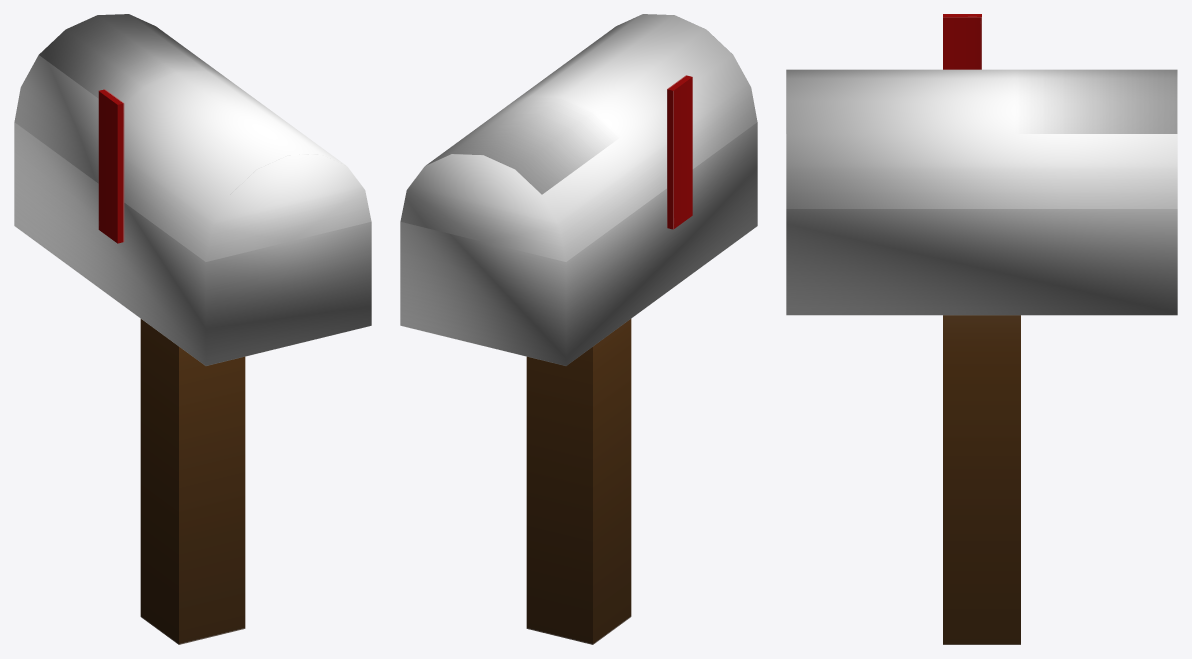
File: mailbox.fbx
3 renders of one model, left to right at view 1: azimuth 30°, elevation 25°; view 2: azimuth 150°, elevation 25°; view 3: azimuth 270°, elevation 25°, orthographic. The views are drawn at different scales.
Visible parts, largest first — view 1: mailbox_body, mailbox_post, mailbox_flag; view 2: mailbox_body, mailbox_post, mailbox_flag; view 3: mailbox_body, mailbox_post, mailbox_flag.
Part boxes in pixels (x1=…): mailbox_body: x1=14, y1=14, x2=371, y2=365; mailbox_post: x1=140, y1=319, x2=245, y2=644; mailbox_flag: x1=98, y1=89, x2=124, y2=243; mailbox_body: x1=400, y1=14, x2=757, y2=365; mailbox_post: x1=526, y1=319, x2=631, y2=644; mailbox_flag: x1=667, y1=75, x2=692, y2=229; mailbox_body: x1=786, y1=69, x2=1177, y2=315; mailbox_post: x1=943, y1=315, x2=1020, y2=644; mailbox_flag: x1=943, y1=14, x2=981, y2=69.
Size of the model in its own units: 26.75 by 80 by 50.
